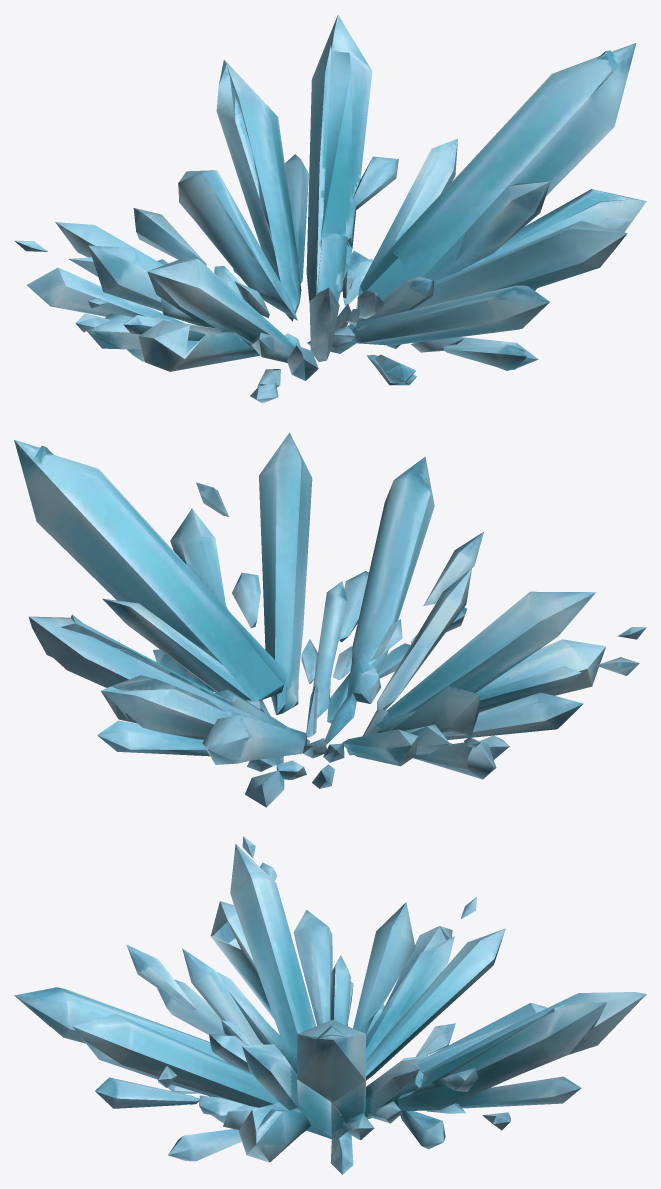
The picture shows the model from 3 angles, top to bottom: view 1: azimuth 30°, elevation 25°; view 2: azimuth 150°, elevation 25°; view 3: azimuth 270°, elevation 25°; orthographic projection. The views are drawn at different scales.
Parts seen in each view (by area): view 1: geometry_0; view 2: geometry_0; view 3: geometry_0.
Part boxes in pixels (x1=…): geometry_0: x1=14, y1=15, x2=646, y2=403; geometry_0: x1=14, y1=432, x2=646, y2=807; geometry_0: x1=14, y1=836, x2=646, y2=1174.
Bounding box in the file's own units: 0.9645 × 0.3719 × 0.9163.
Materials: 1 (1 with a texture image).
